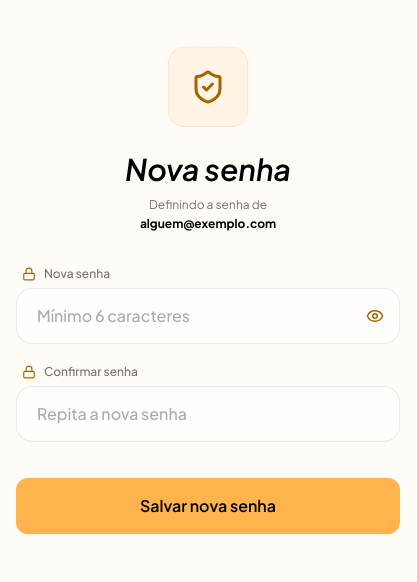
AuthAction › recusa senhas que não coincidem sem chamar o Firebase
Expected: the text "alguem@exemplo.com" is shown, x1=140 y1=216 x2=276 y2=231
In the password field with placeholder "Mínimo 6 caracteres": (208, 316) x1=16 y1=288 x2=400 y2=344, type "senhanova1"
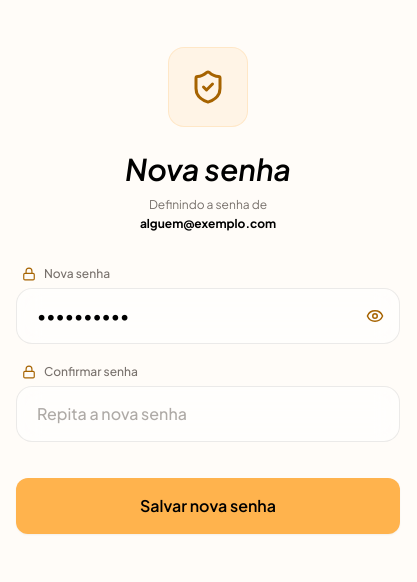
In the password field with placeholder "Repita a nova senha": (208, 414) x1=16 y1=386 x2=400 y2=442, type "outracoisa"
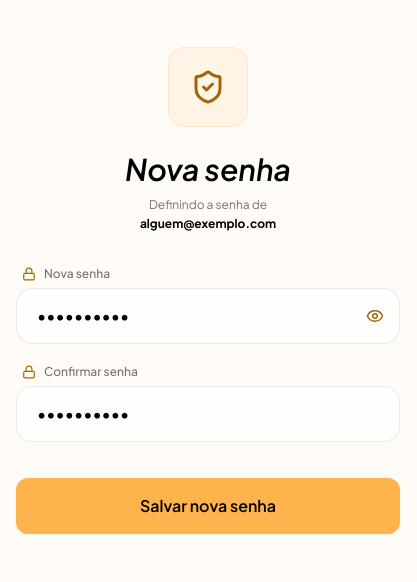
Click the button "Salvar nova senha": (208, 506) x1=16 y1=478 x2=400 y2=534
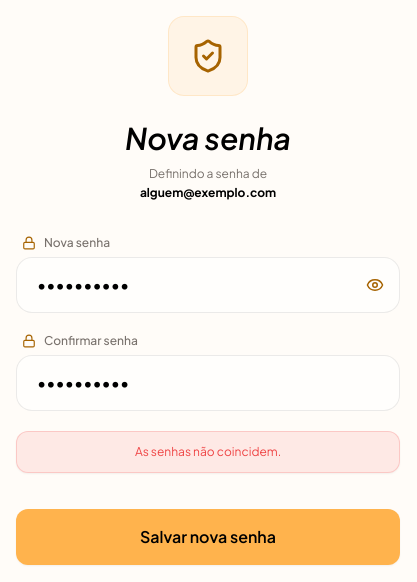
Result: the text "As senhas não coincidem." is shown at x1=16 y1=430 x2=400 y2=472
